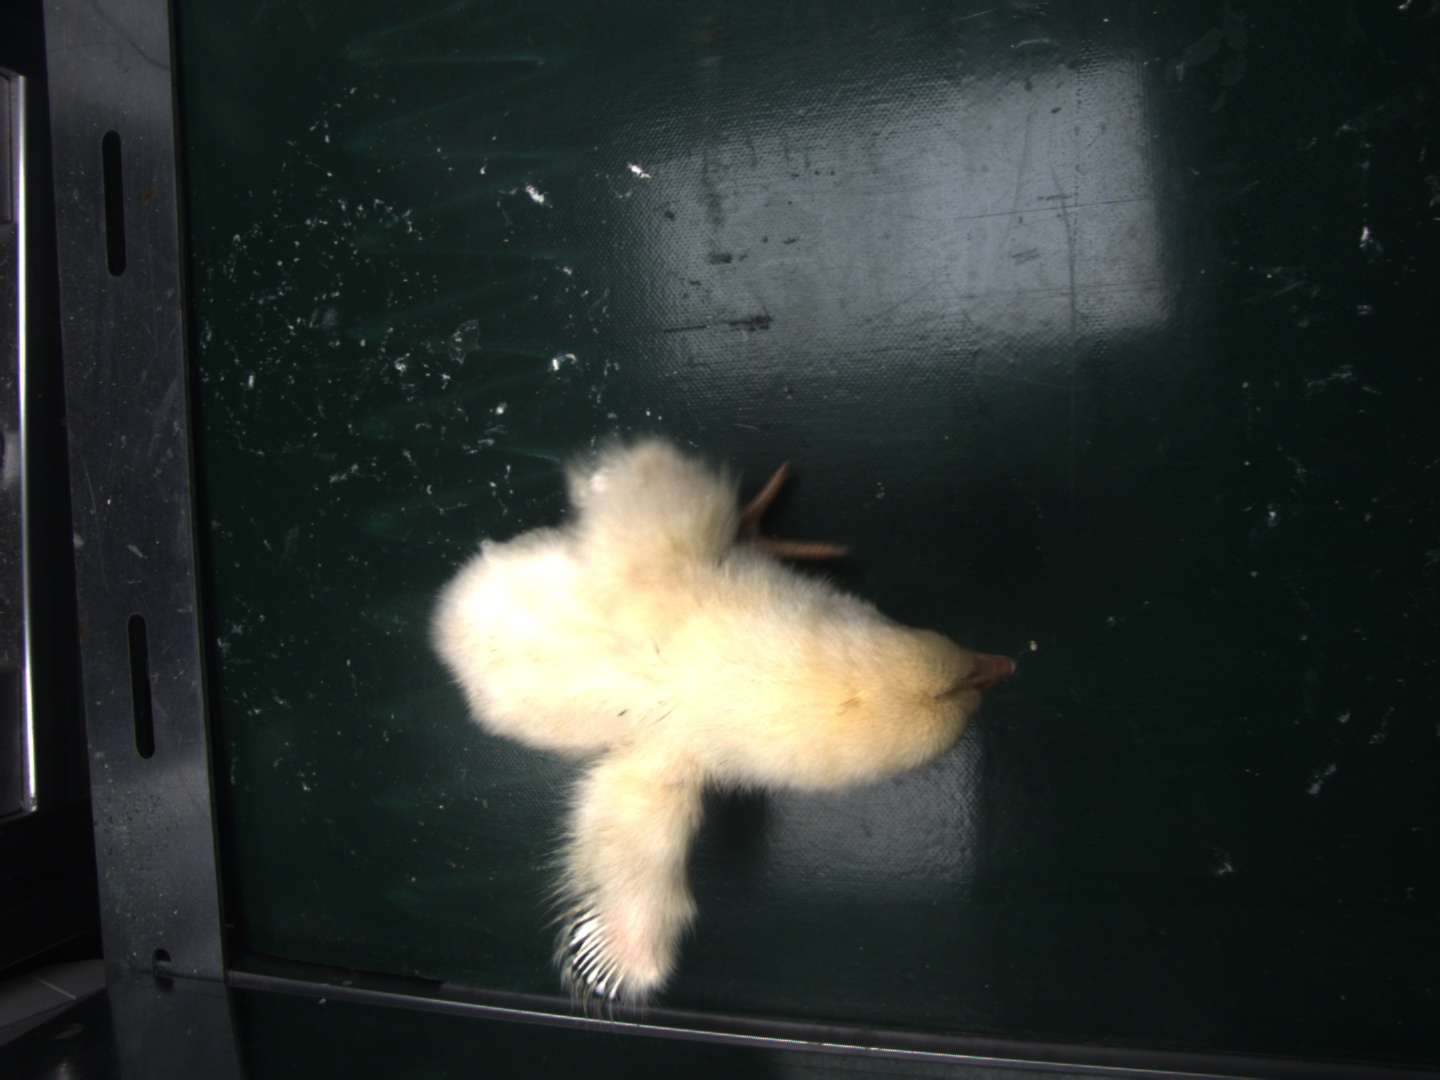male: (568, 909, 632, 1006)
